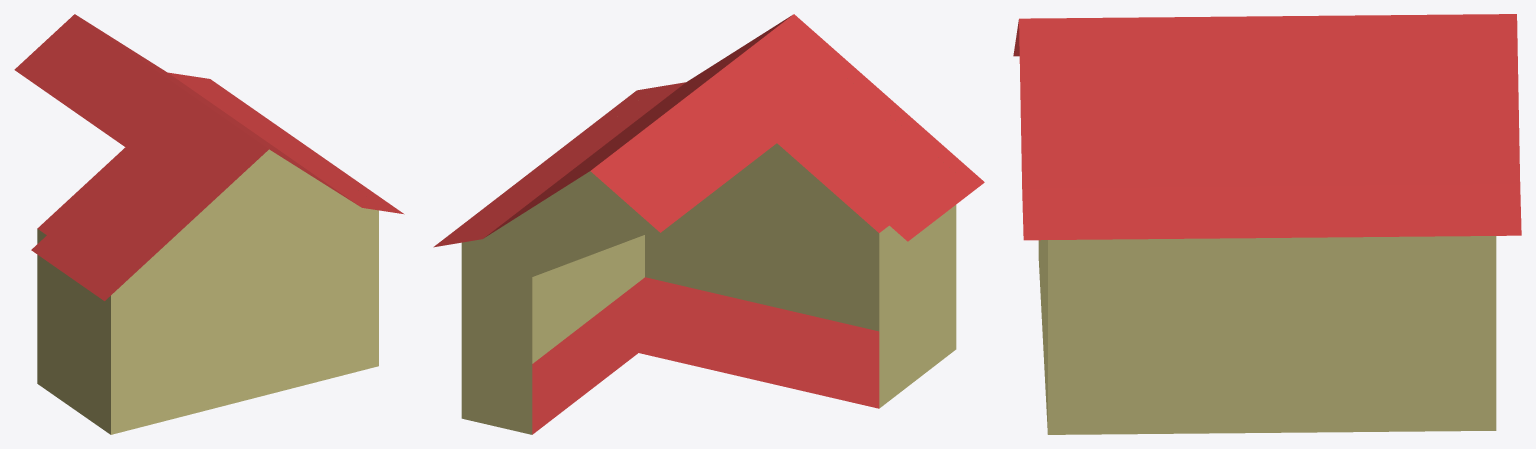
3 renders of one model, left to right at view 1: azimuth 30°, elevation 25°; view 2: azimuth 150°, elevation 25°; view 3: azimuth 270°, elevation 25°, orthographic. The views are drawn at different scales.
Size of the model in its own units: 14.24 by 15.37 by 11.28.
